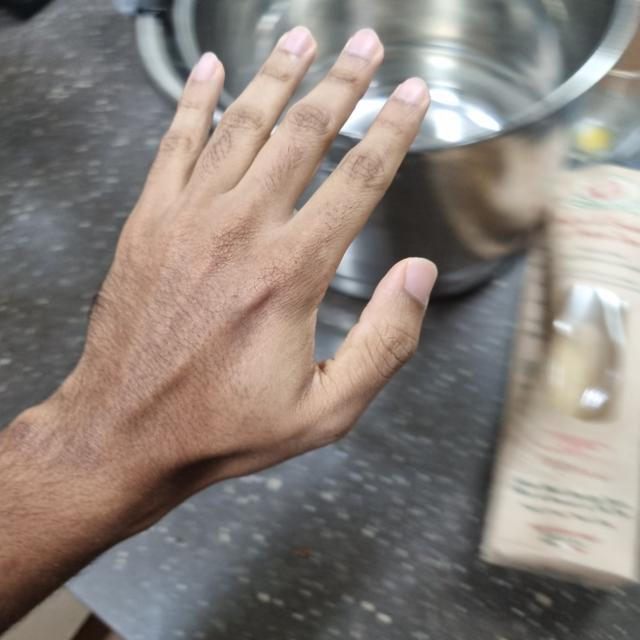Paper: (72, 27, 432, 497)
